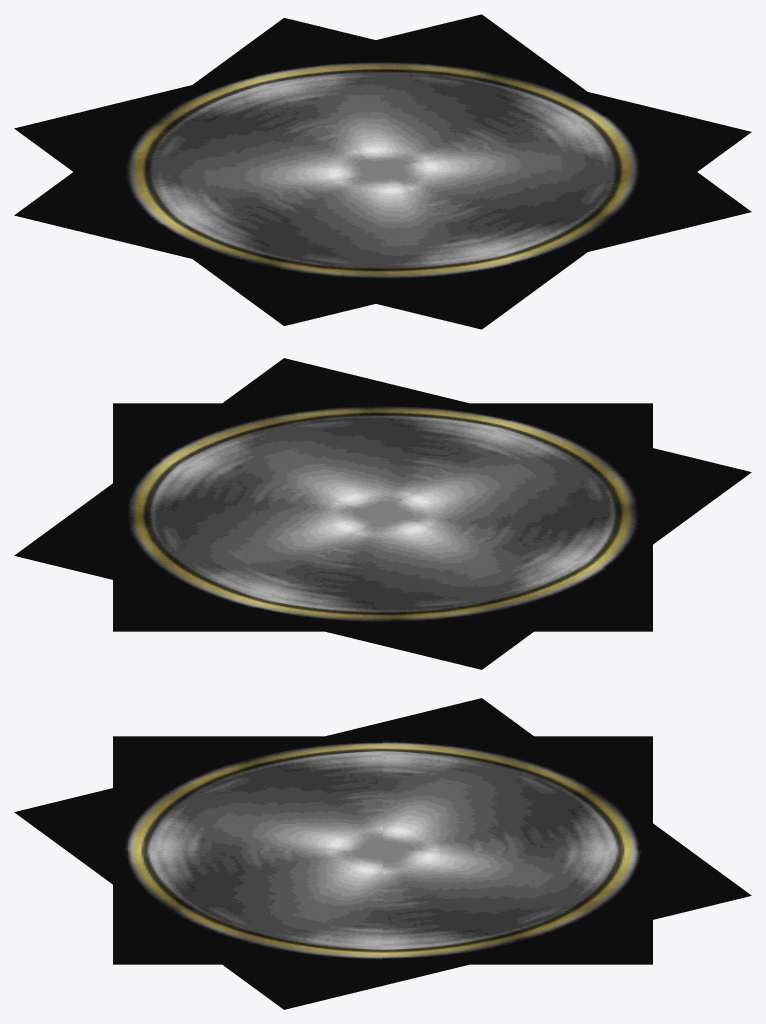
The model's file is Helice.obj.
3 views of the same model, one above another, from view 1: azimuth 30°, elevation 25°; view 2: azimuth 150°, elevation 25°; view 3: azimuth 270°, elevation 25° (orthographic).
Parts seen in each view (by area): view 1: LargeDisc1_mesh, LargeDisc2_mesh; view 2: LargeDisc1_mesh, LargeDisc2_mesh; view 3: LargeDisc1_mesh, LargeDisc2_mesh.
Boxes of the visible parts, x1,y1,x2,y2 form: LargeDisc1_mesh: [14, 14, 751, 325]; LargeDisc2_mesh: [14, 18, 751, 329]; LargeDisc1_mesh: [14, 358, 751, 669]; LargeDisc2_mesh: [113, 403, 652, 631]; LargeDisc1_mesh: [113, 736, 652, 964]; LargeDisc2_mesh: [14, 698, 751, 1009].
Bounding box in the file's own units: 17.49 × 0.09 × 17.49.
Materials: 2 (2 with a texture image).
